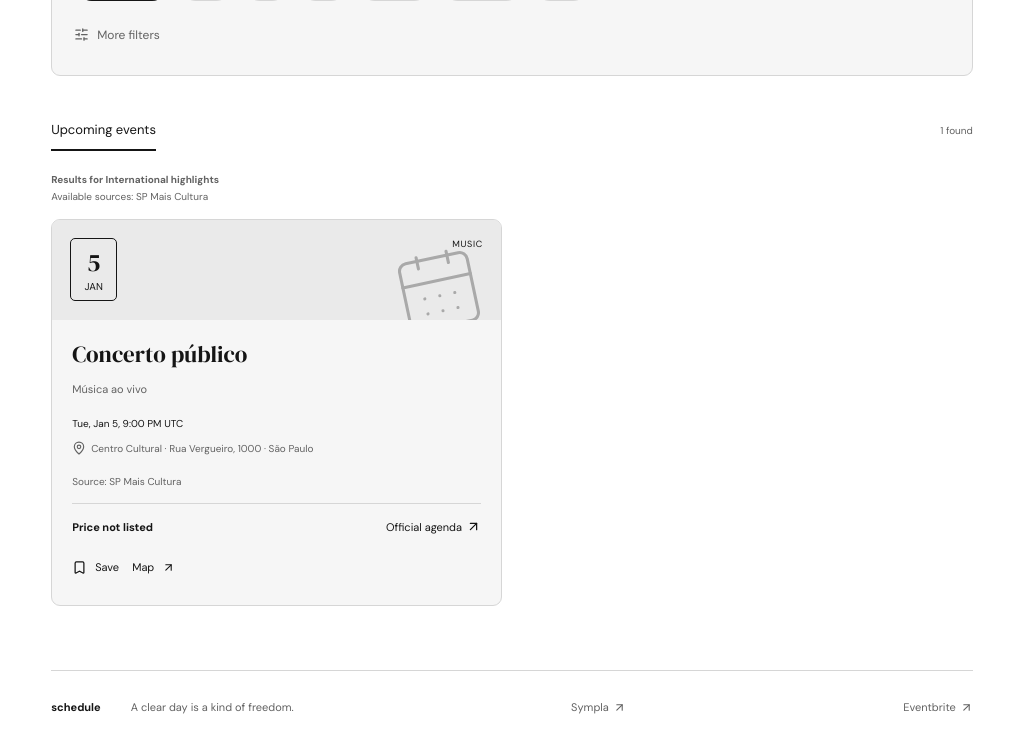
public event homepage › loads real events before sign-in, avoids automatic GPS and opens authentication only on a personal action
(page scrolled)
Check: the heading "Concerto público" is shown, box [72, 338, 247, 370]
Click the button with aria-label "Save Concerto público" at (96, 568), box [72, 550, 119, 585]
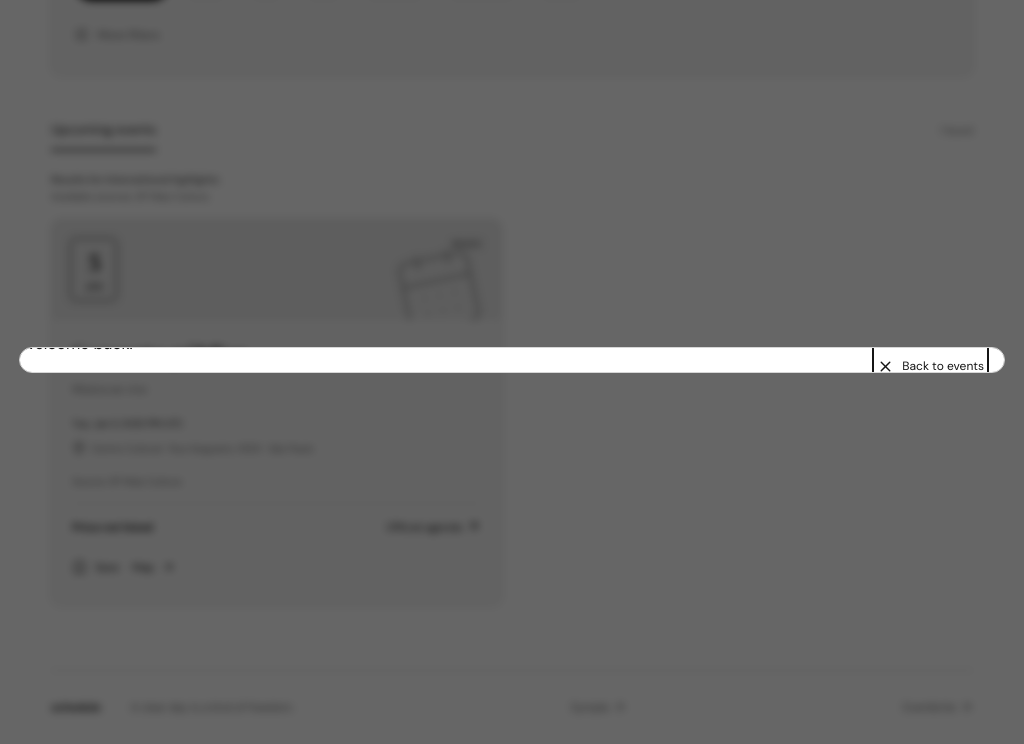
Check: the dialog is shown, box [19, 347, 1005, 373]
Click the button with aria-label "Close sign-in" at (931, 366), box [877, 348, 984, 384]
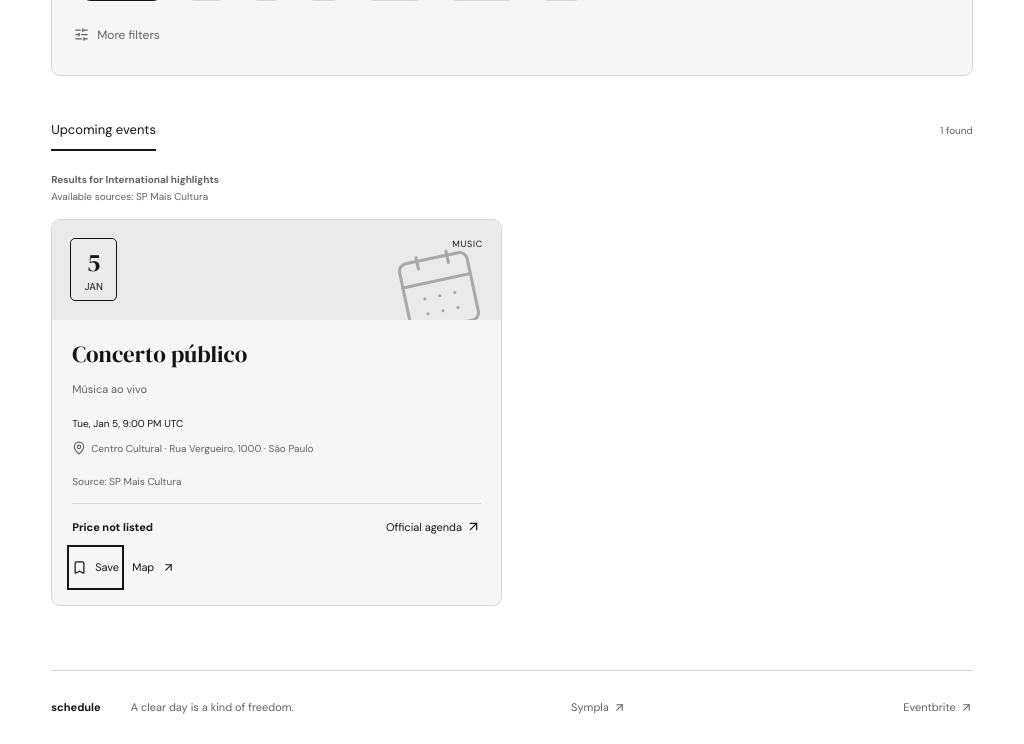
Check: the heading "Concerto público" is shown, box [72, 338, 247, 370]
Check: the dialog is gone
